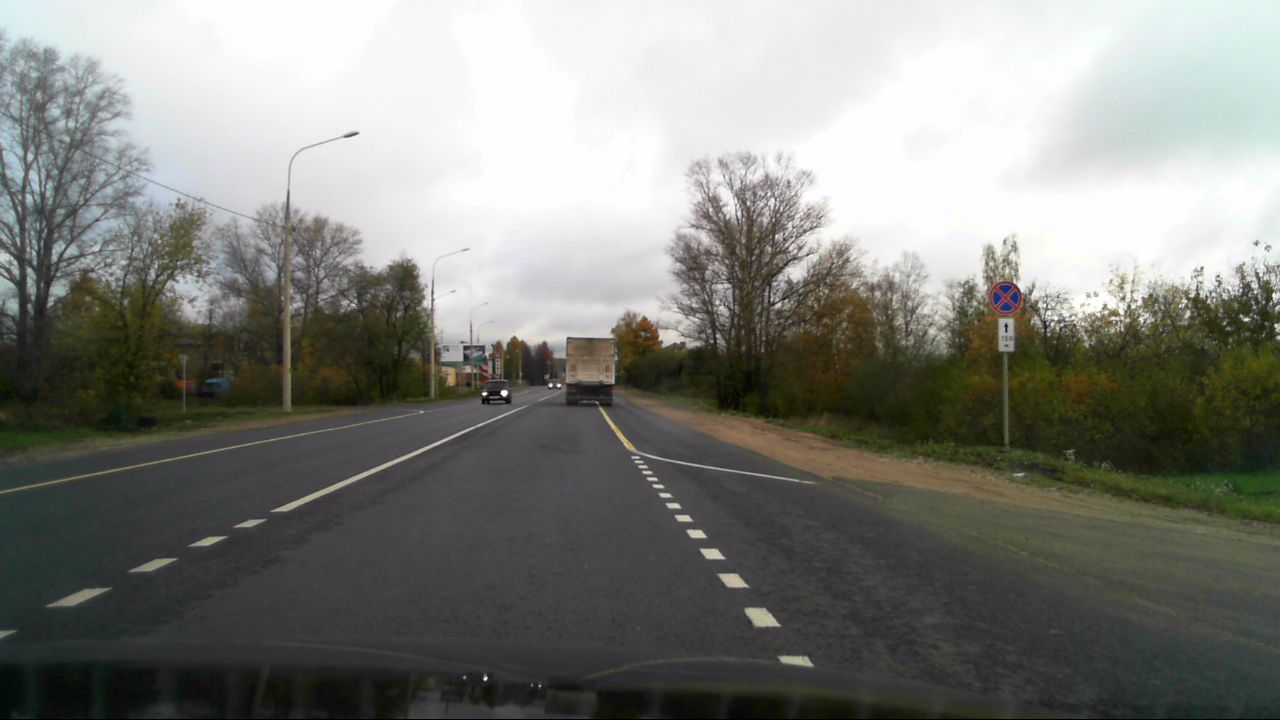No Parking: (989, 281, 1021, 316)
